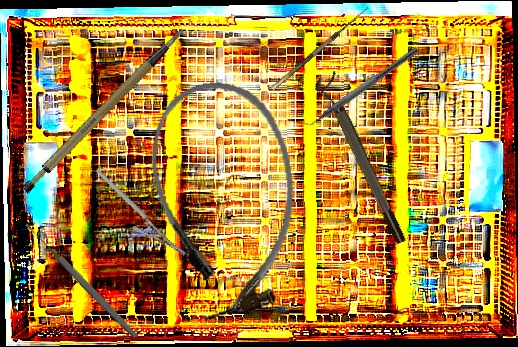Cannula: (140, 73, 311, 325)
Chopper: (295, 39, 420, 135)
Fixation Ring: (311, 70, 410, 250)
Hook Surgical: (266, 1, 371, 91)
Needle Holder: (95, 150, 188, 275)
Scalpel Handle: (3, 27, 207, 197)
Surgical Spoon: (23, 220, 140, 341)
